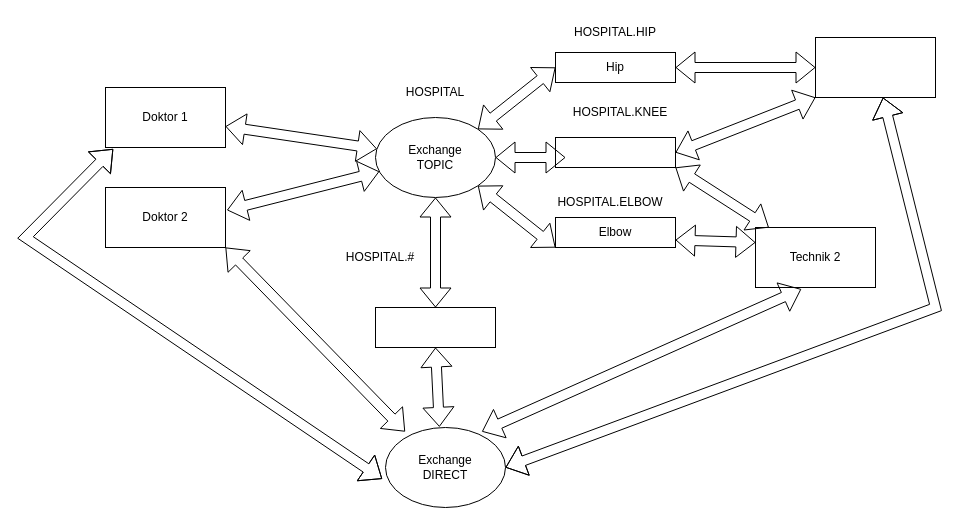
The diagram is 959 pixels wide and 525 high, and some of its shapes have lost their labels. Here are the shapes that lost their labels. From the top down, the box of each, then its label:
(814, 36, 936, 98): Technik 1
(554, 136, 676, 168): Knee
(374, 306, 496, 348): Administrator
